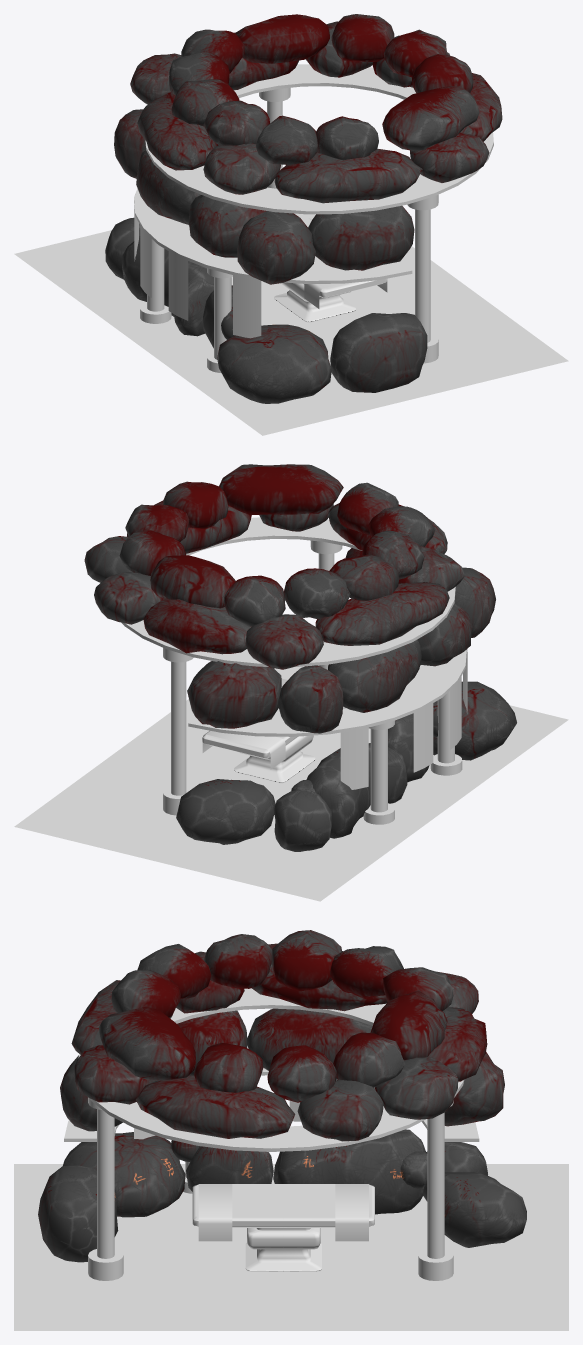
The model's file is altarr_render.fbx.
The picture shows the model from 3 angles, top to bottom: view 1: azimuth 30°, elevation 25°; view 2: azimuth 150°, elevation 25°; view 3: azimuth 270°, elevation 25°; orthographic projection. The views are drawn at different scales.
Visible parts, largest first — view 1: Cube.003, Plane.005, Cube.001, Cube.002, Cube.005, Circle.002, Cube.004, Circle.005, Circle.003, Plane.002, Plane.001, Plane.007; view 2: Plane.005, Cube.003, Cube.001, Cube.002, Cube.004, Cube.005, Circle.005, Circle.002, Circle.003, Plane.002, Plane.001, Plane.007; view 3: Plane.005, Cube.001, Cube.003, Cube.002, Cube.005, Plane.001, Cube.004, Circle.005, Circle.002, Plane.007, Circle.003.
Boxes of the visible parts, left/top/right/bottom form: Cube.003: left=105, top=14, right=447, bottom=403; Plane.005: left=14, top=213, right=568, bottom=435; Cube.001: left=171, top=14, right=502, bottom=392; Cube.002: left=137, top=32, right=449, bottom=203; Cube.005: left=130, top=21, right=489, bottom=194; Circle.002: left=145, top=64, right=493, bottom=214; Cube.004: left=136, top=145, right=315, bottom=339; Circle.005: left=140, top=87, right=438, bottom=372; Circle.003: left=134, top=188, right=412, bottom=283; Plane.002: left=134, top=208, right=260, bottom=338; Plane.001: left=274, top=218, right=387, bottom=322; Plane.007: left=302, top=218, right=387, bottom=308; Plane.005: left=14, top=665, right=568, bottom=901; Cube.003: left=125, top=482, right=516, bottom=851; Cube.001: left=119, top=464, right=435, bottom=844; Cube.002: left=84, top=503, right=449, bottom=654; Cube.004: left=187, top=567, right=495, bottom=737; Cube.005: left=94, top=504, right=465, bottom=669; Circle.005: left=163, top=540, right=462, bottom=824; Circle.002: left=122, top=517, right=455, bottom=666; Circle.003: left=188, top=650, right=466, bottom=736; Plane.002: left=341, top=649, right=467, bottom=789; Plane.001: left=202, top=678, right=315, bottom=783; Plane.007: left=202, top=678, right=346, bottom=769; Plane.005: left=14, top=1164, right=568, bottom=1330; Cube.001: left=38, top=930, right=526, bottom=1262; Cube.003: left=60, top=934, right=487, bottom=1217; Cube.002: left=71, top=943, right=487, bottom=1141; Cube.005: left=74, top=951, right=478, bottom=1119; Plane.001: left=192, top=1184, right=374, bottom=1272; Cube.004: left=170, top=1008, right=504, bottom=1161; Circle.005: left=88, top=1097, right=453, bottom=1280; Circle.002: left=78, top=988, right=464, bottom=1151; Plane.007: left=198, top=1184, right=368, bottom=1241; Circle.003: left=64, top=1068, right=479, bottom=1141.
Size of the model in its own units: 404 by 296 by 525.
